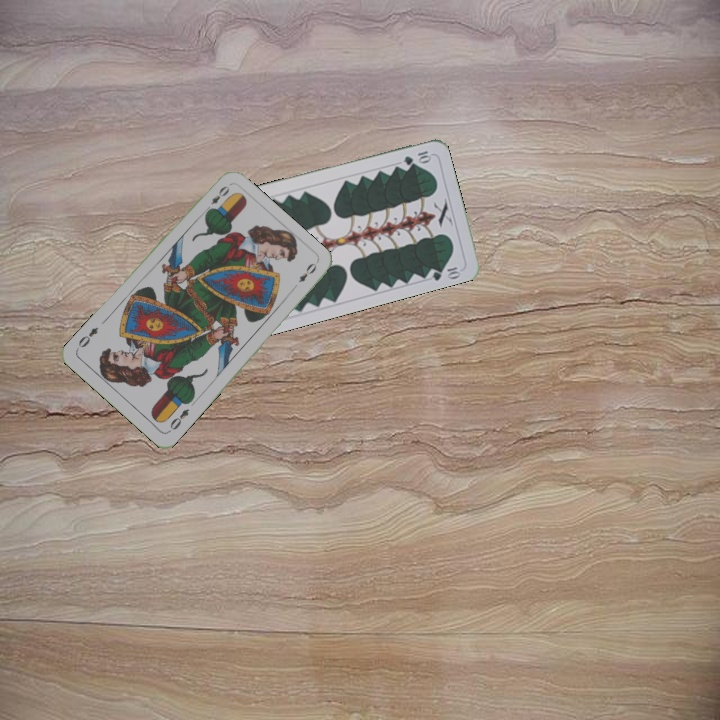EO: (201, 181, 232, 215), (164, 404, 192, 435)
G10: (400, 147, 434, 168)
